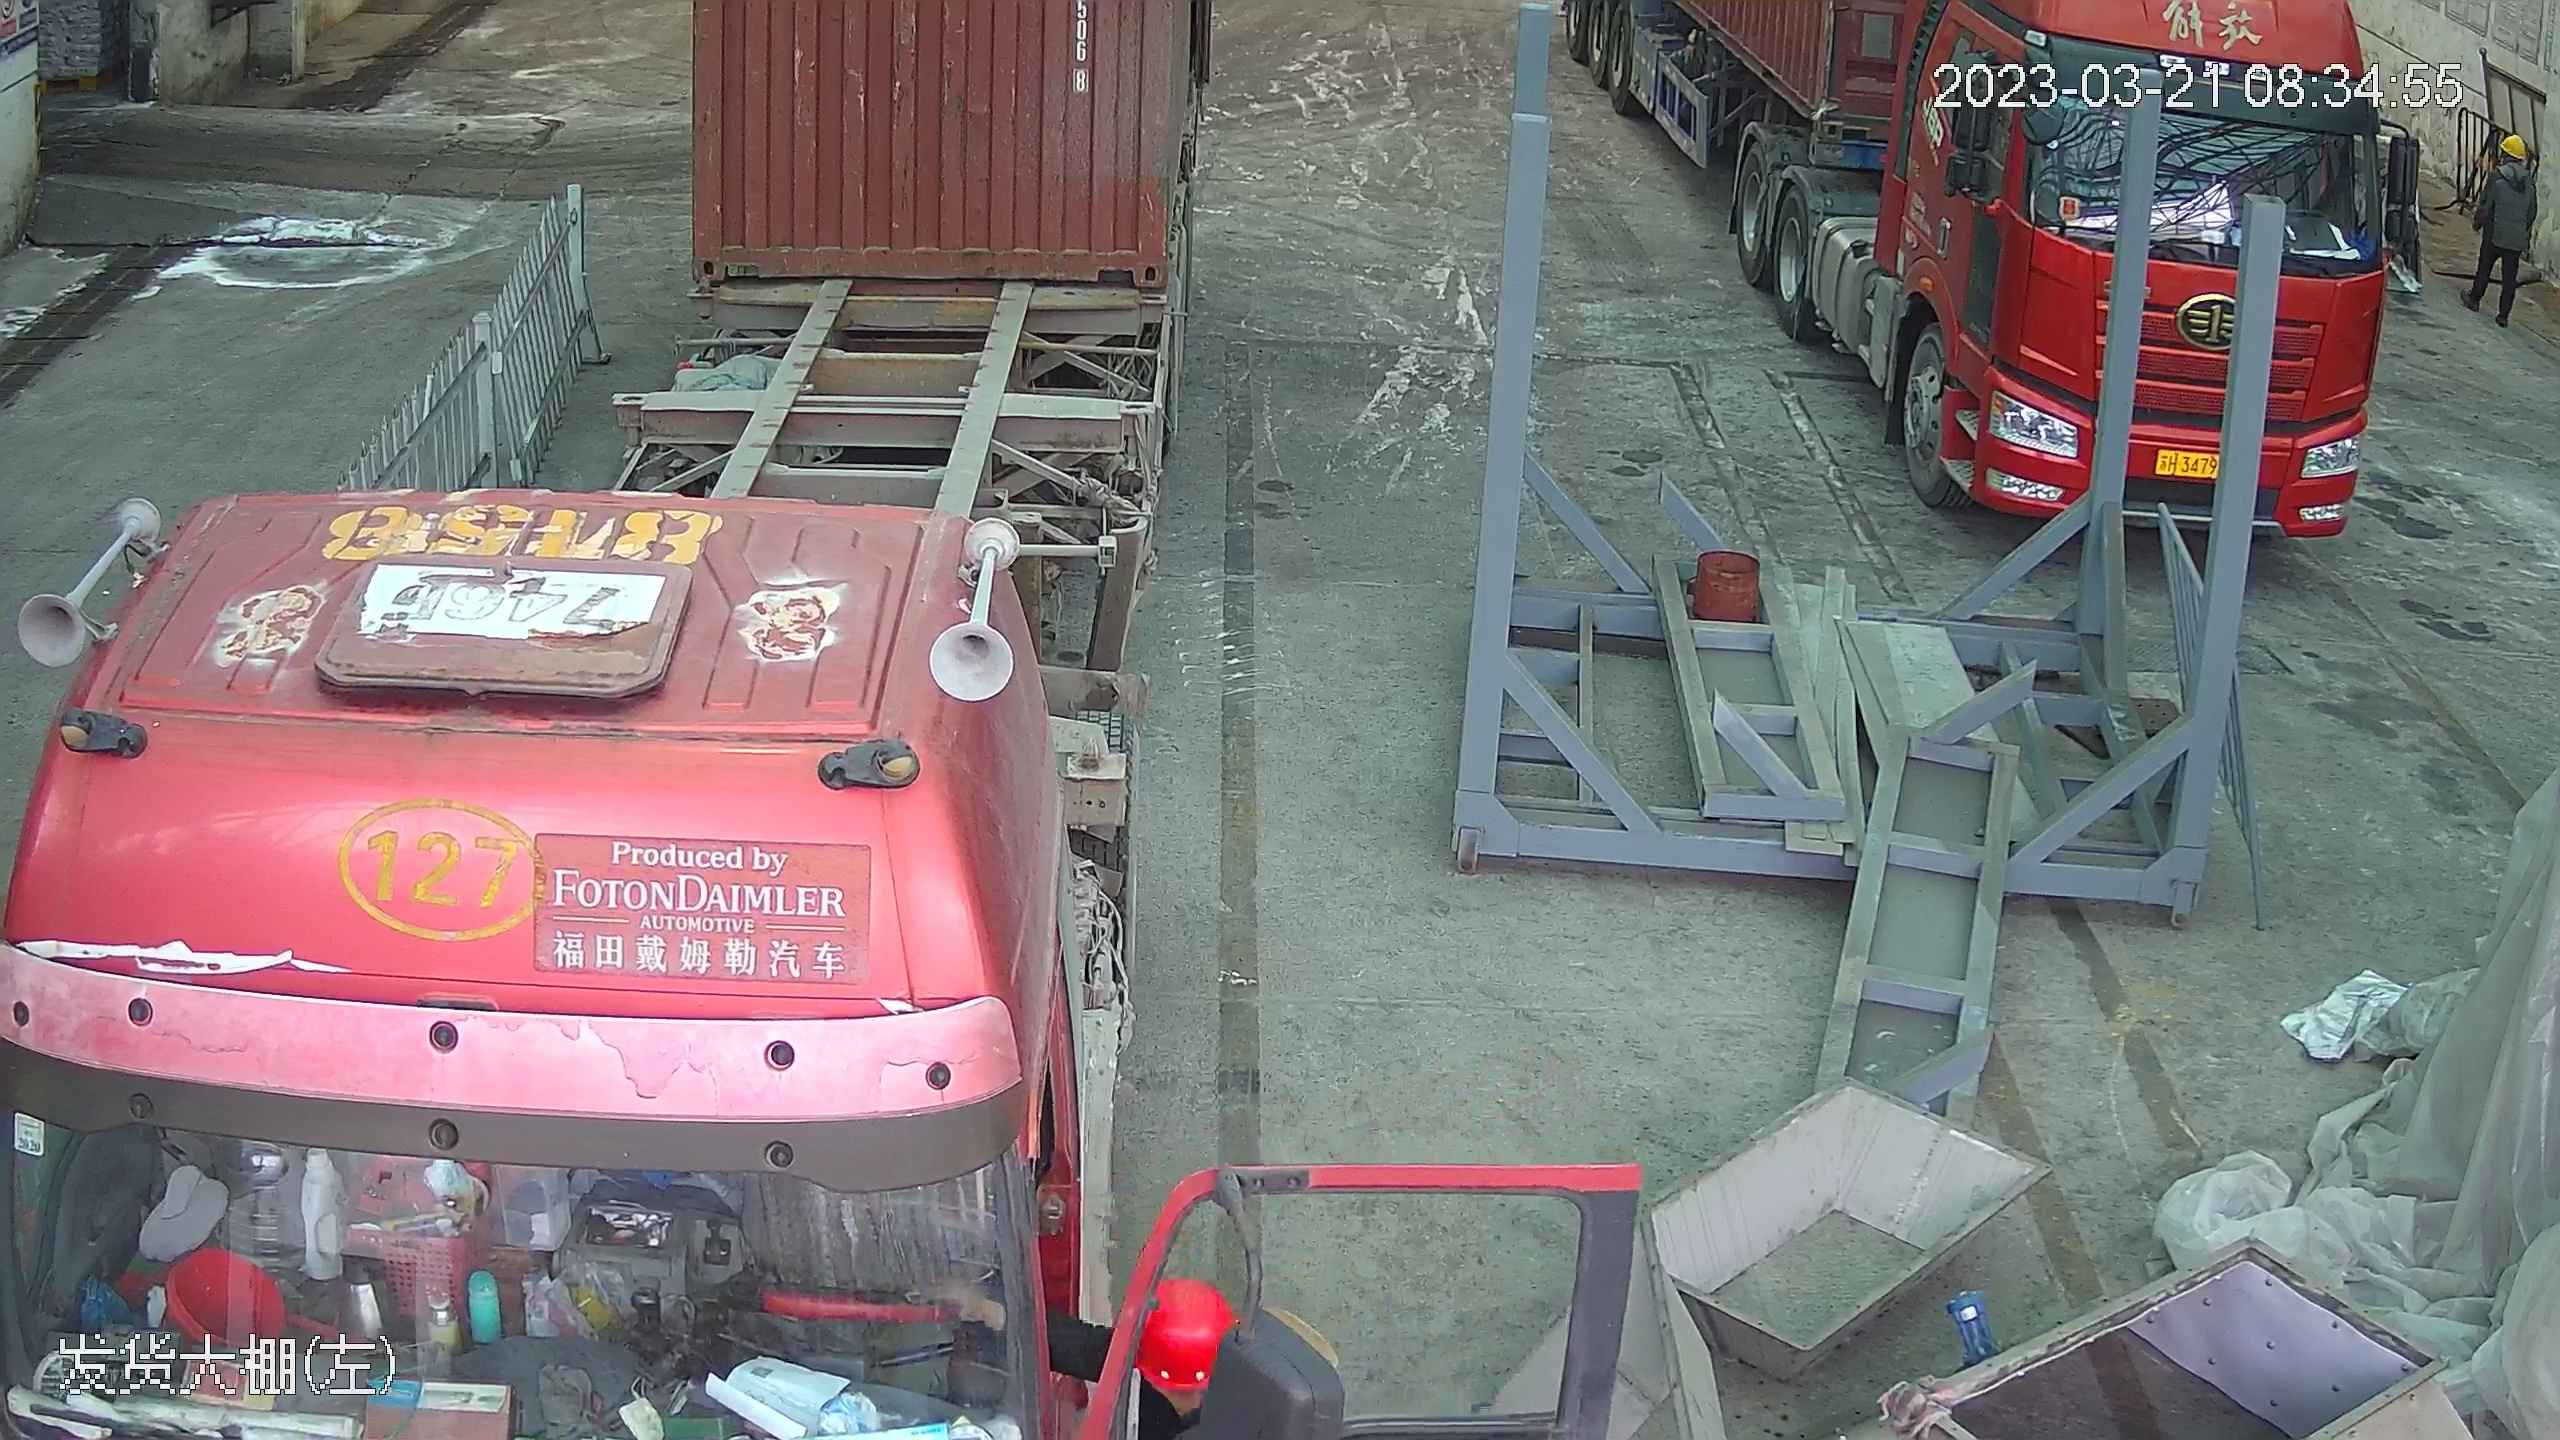head: (1101, 1267, 1272, 1421), (2481, 130, 2538, 199)
helmet: (1135, 1275, 1233, 1382), (2497, 131, 2528, 157)
people: (2458, 127, 2539, 326)
truck: (0, 0, 1181, 1440), (1541, 0, 2386, 536)
